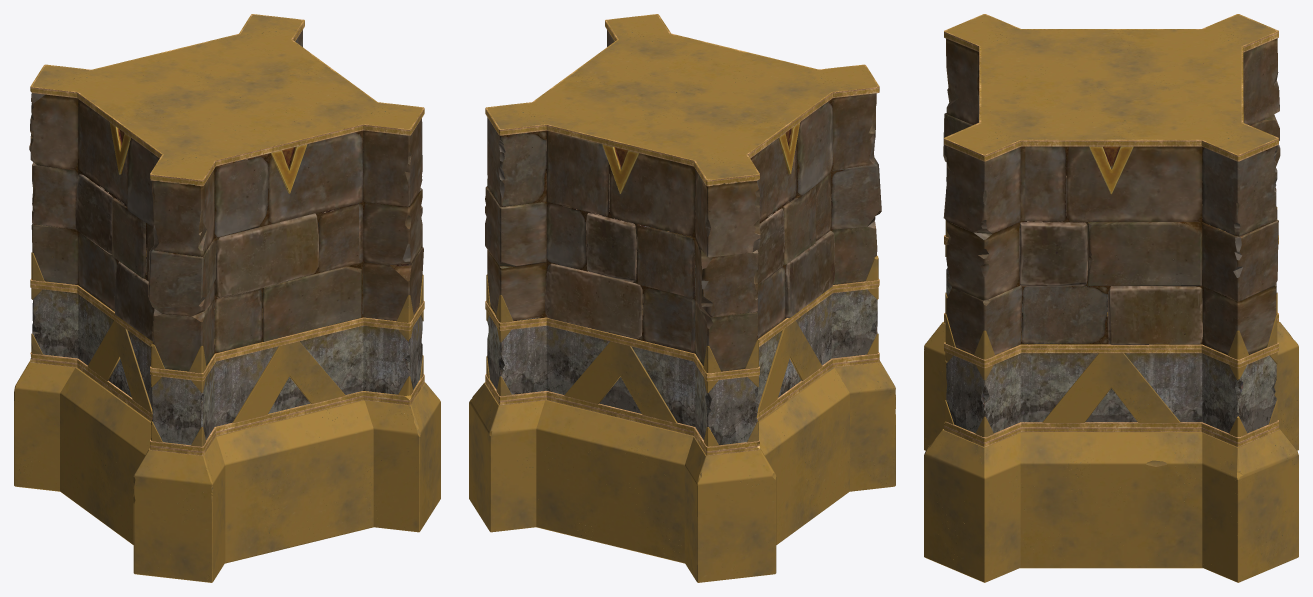
3 views of the same model, side by side, from view 1: azimuth 30°, elevation 25°; view 2: azimuth 150°, elevation 25°; view 3: azimuth 270°, elevation 25° (orthographic). The views are drawn at different scales.
Parts seen in each view (by area): view 1: SM_DK_8m_TowerBase_01_LOD0; view 2: SM_DK_8m_TowerBase_01_LOD0; view 3: SM_DK_8m_TowerBase_01_LOD0.
Boxes of the visible parts, x1,y1,x2,y2 form: SM_DK_8m_TowerBase_01_LOD0: [14, 14, 440, 582]; SM_DK_8m_TowerBase_01_LOD0: [469, 14, 895, 582]; SM_DK_8m_TowerBase_01_LOD0: [924, 14, 1298, 582].
Size of the model in its own units: 6.48 by 8.01 by 6.48.
5 materials, 5 textured.
